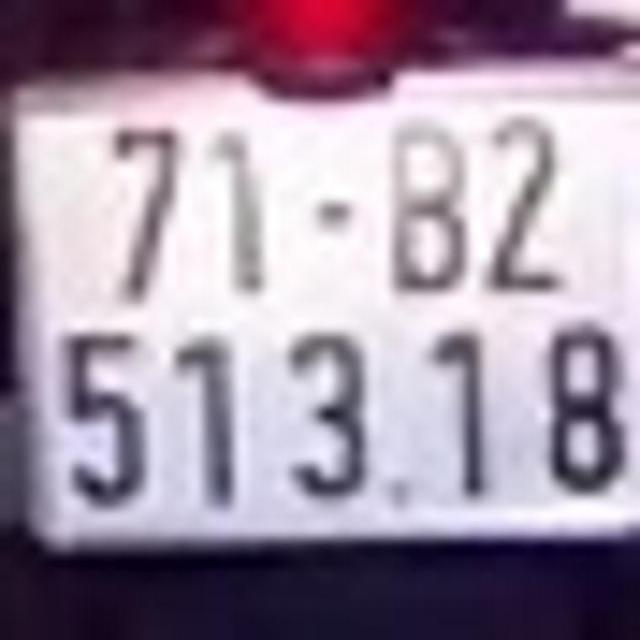1: (422, 320, 501, 502), (168, 320, 242, 512), (199, 121, 278, 297)
2: (483, 104, 573, 298)
3: (282, 323, 373, 494)
5: (51, 320, 152, 510)
7: (104, 120, 192, 301)
8: (541, 318, 630, 492)
B: (382, 105, 474, 298)
